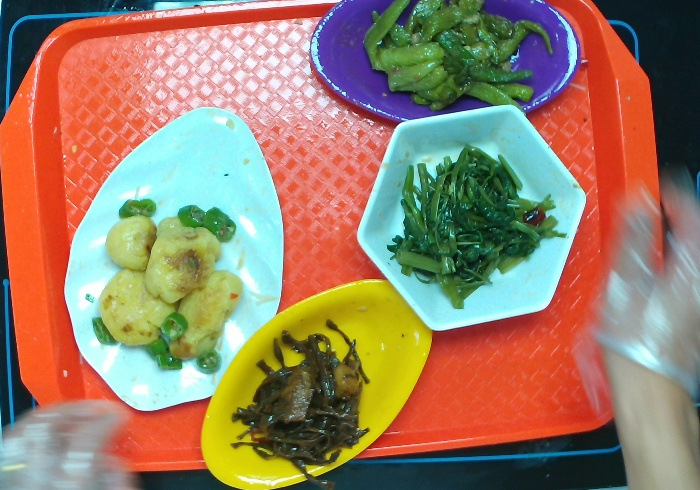RJxy-Bai_Ye_Pan: (62, 105, 286, 412)
RJxy-Fen_Hong_Tuo_Yuan: (308, 1, 582, 122)
RJxy-Huang_Se_Tuo_Yuan: (199, 276, 435, 490)
RJxy-Liu_Jiao_Wan: (355, 102, 587, 332)
